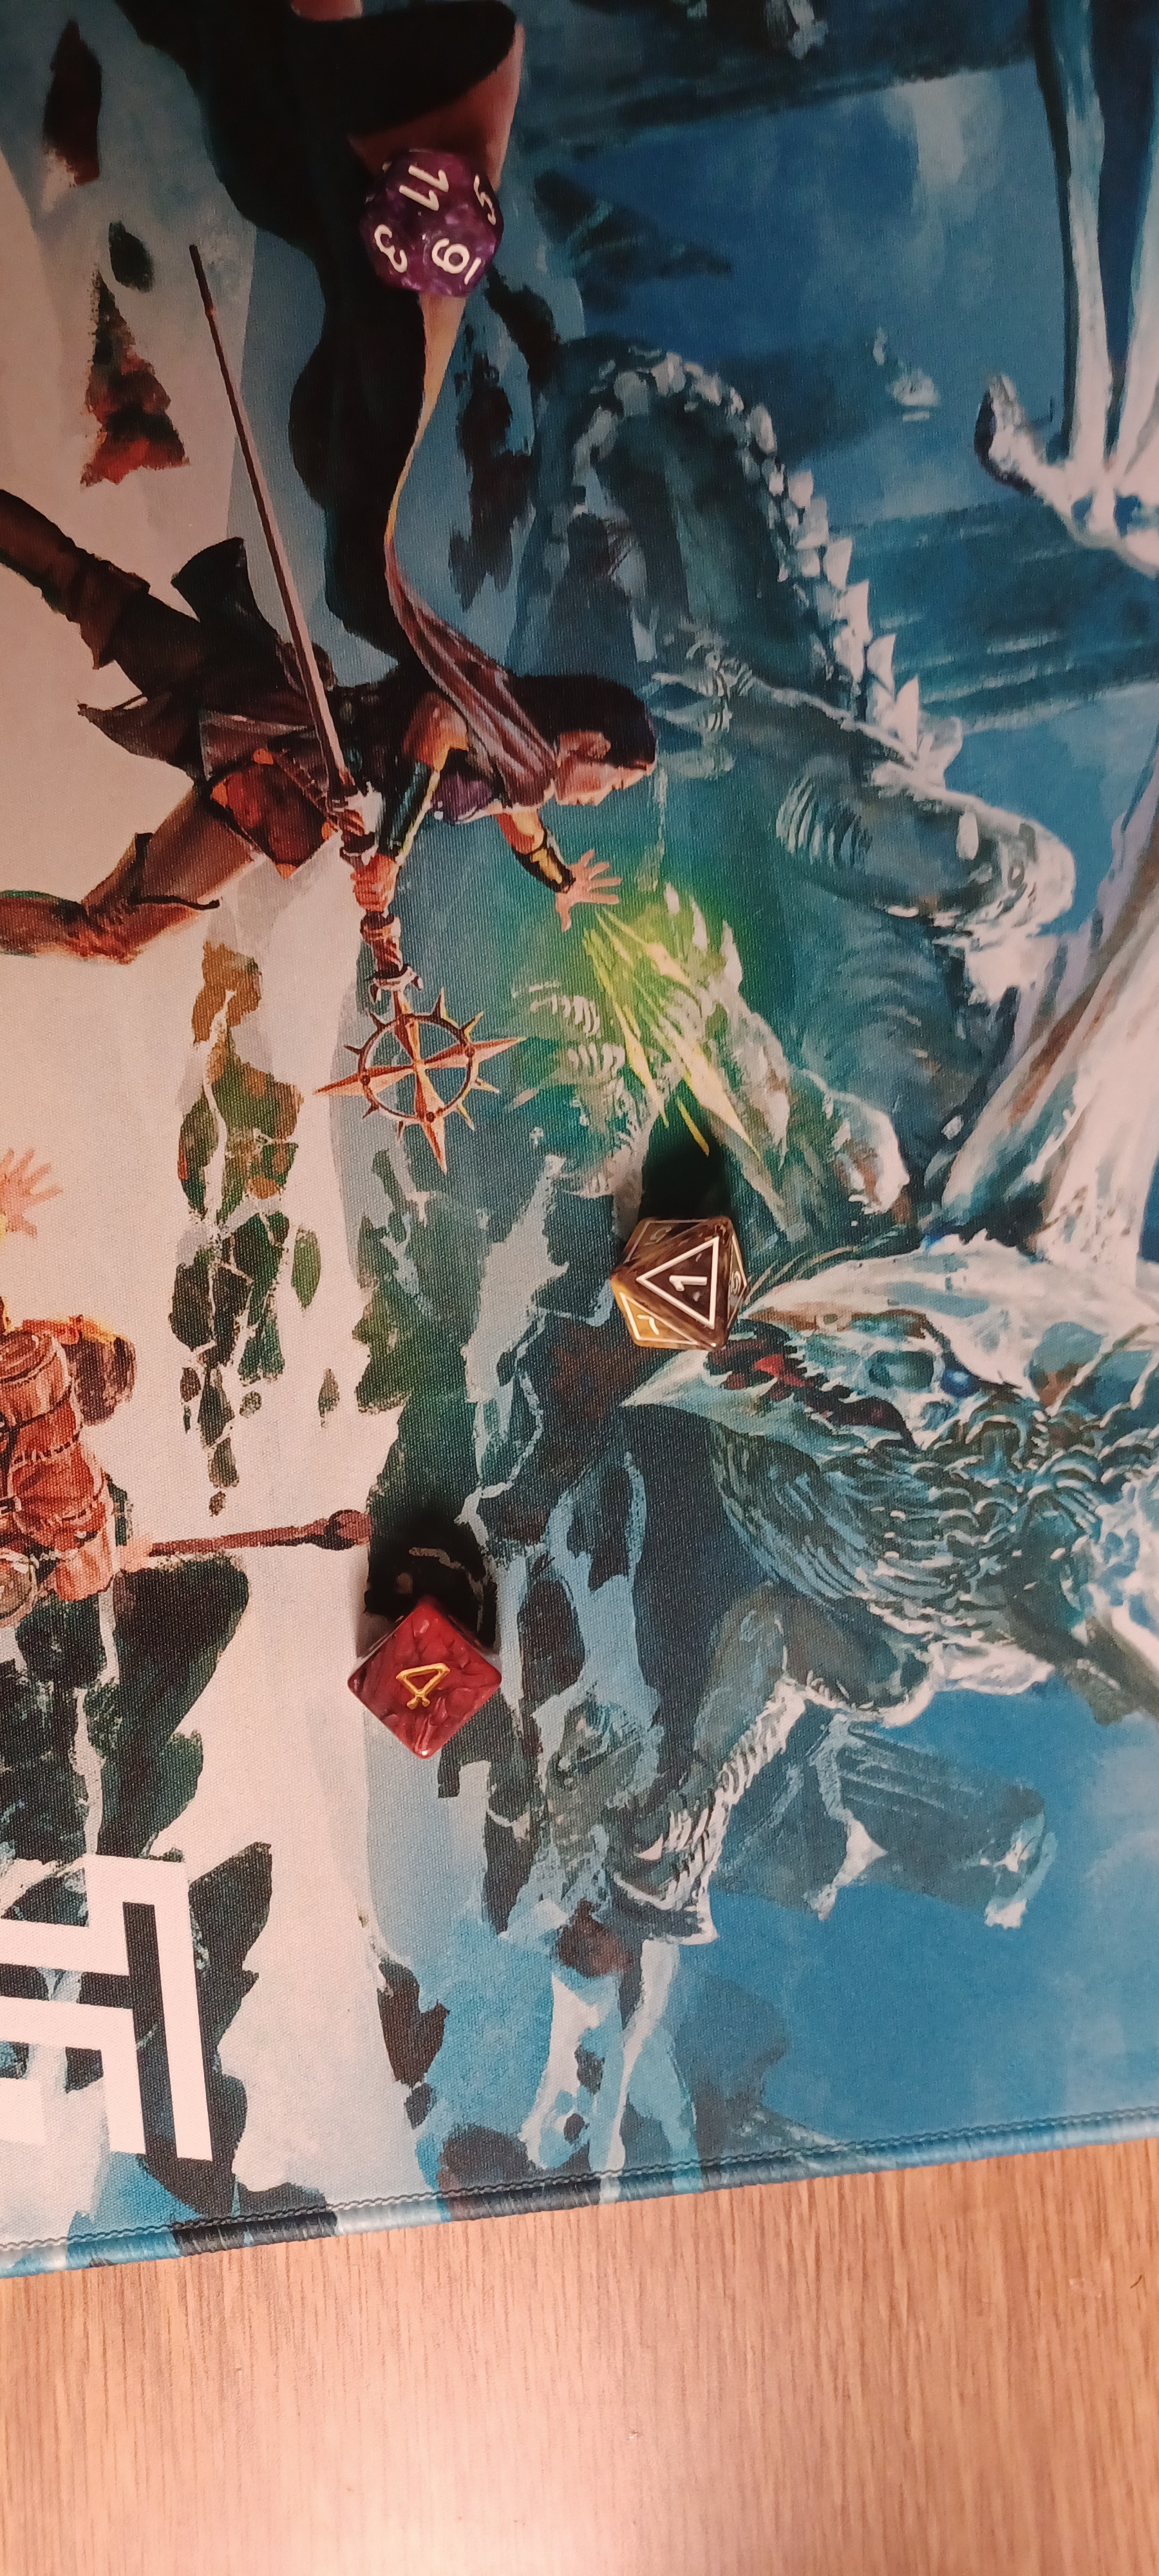eleven: (328, 122, 543, 322)
four: (332, 1579, 525, 1763)
one: (589, 1166, 793, 1393)
